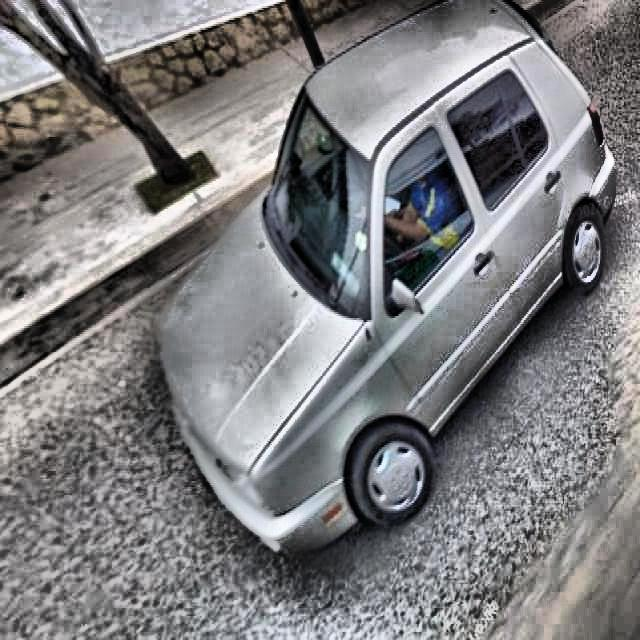carro: (158, 12, 618, 580)
